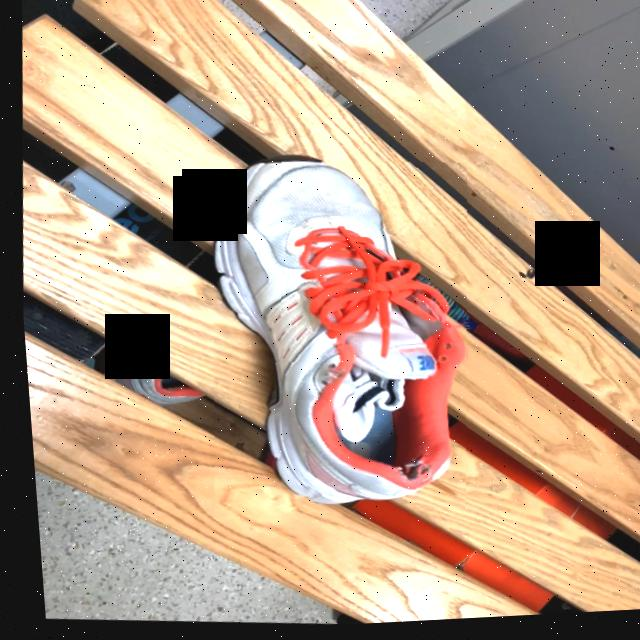shoe: (209, 163, 461, 512)
